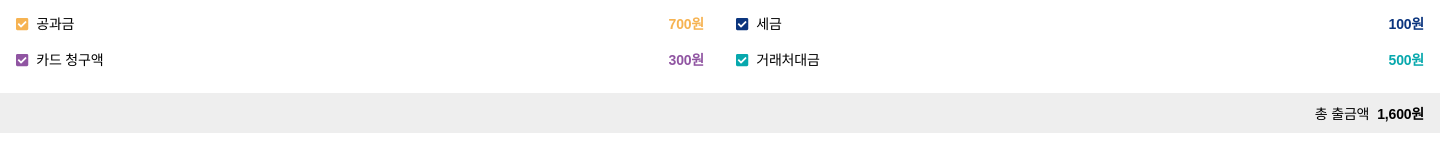
Scenario: 필터링 조건에 맞게 총 금액 출력 › 출금 항목 클릭시 각 항목 토글하여 총 출금액에 반영
Expected: the text "1,600원" is shown, [1377,103,1424,123]
Click the text "공과금": [55, 24] box [36,16,74,32]
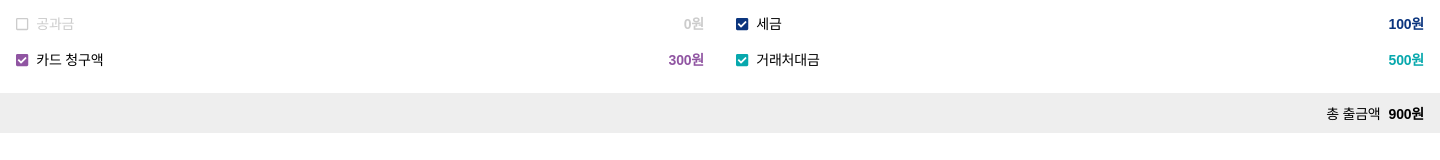
Expected: the text "900원" is shown, [1388,103,1424,123]
Click the text "거래처대금": [788, 60] box [756,52,820,68]
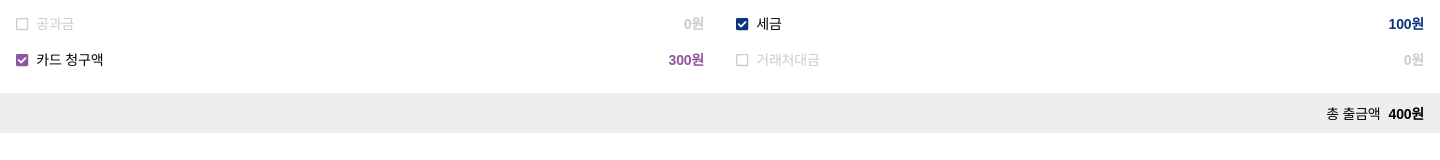
Expected: the text "400원" is shown, [1388,103,1424,123]
Click the text "공과금": [55, 24] box [36,16,74,32]
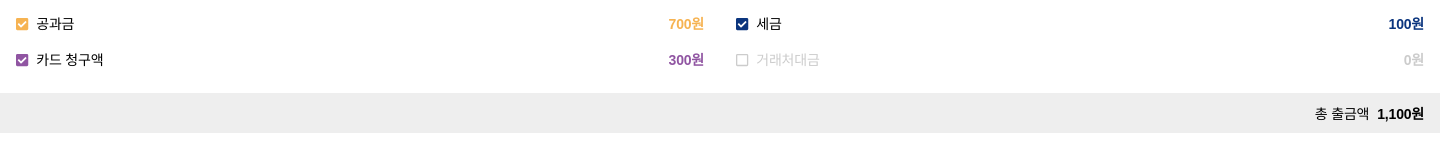
Expected: the text "1,100원" is shown, [1377,103,1424,123]
Click the text "카드 청구액": [70, 60] box [36,52,103,68]
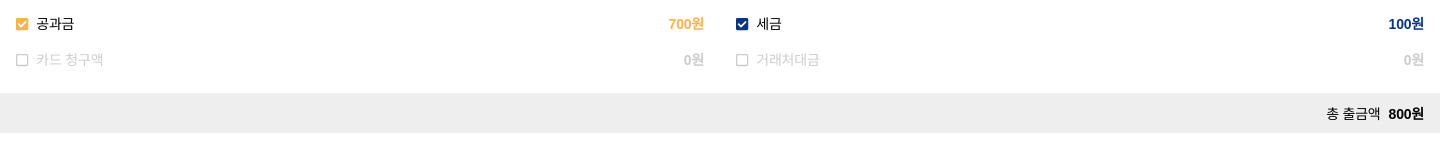
Expected: the text "800원" is shown, [1388,103,1424,123]
Click the text "세금": [769, 24] box [756,16,782,32]
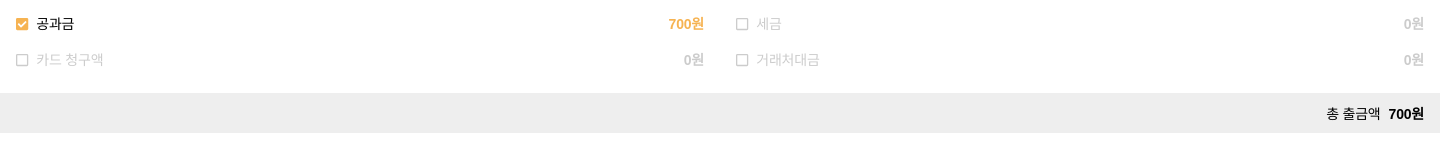
Click the text "거래처대금": [788, 60] box [756,52,820,68]
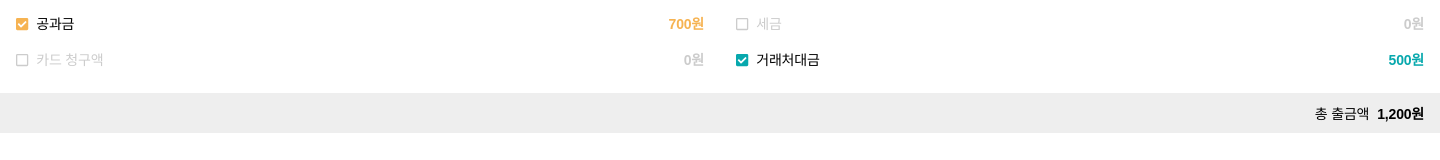
Expected: the text "1,200원" is shown, [1377,103,1424,123]
